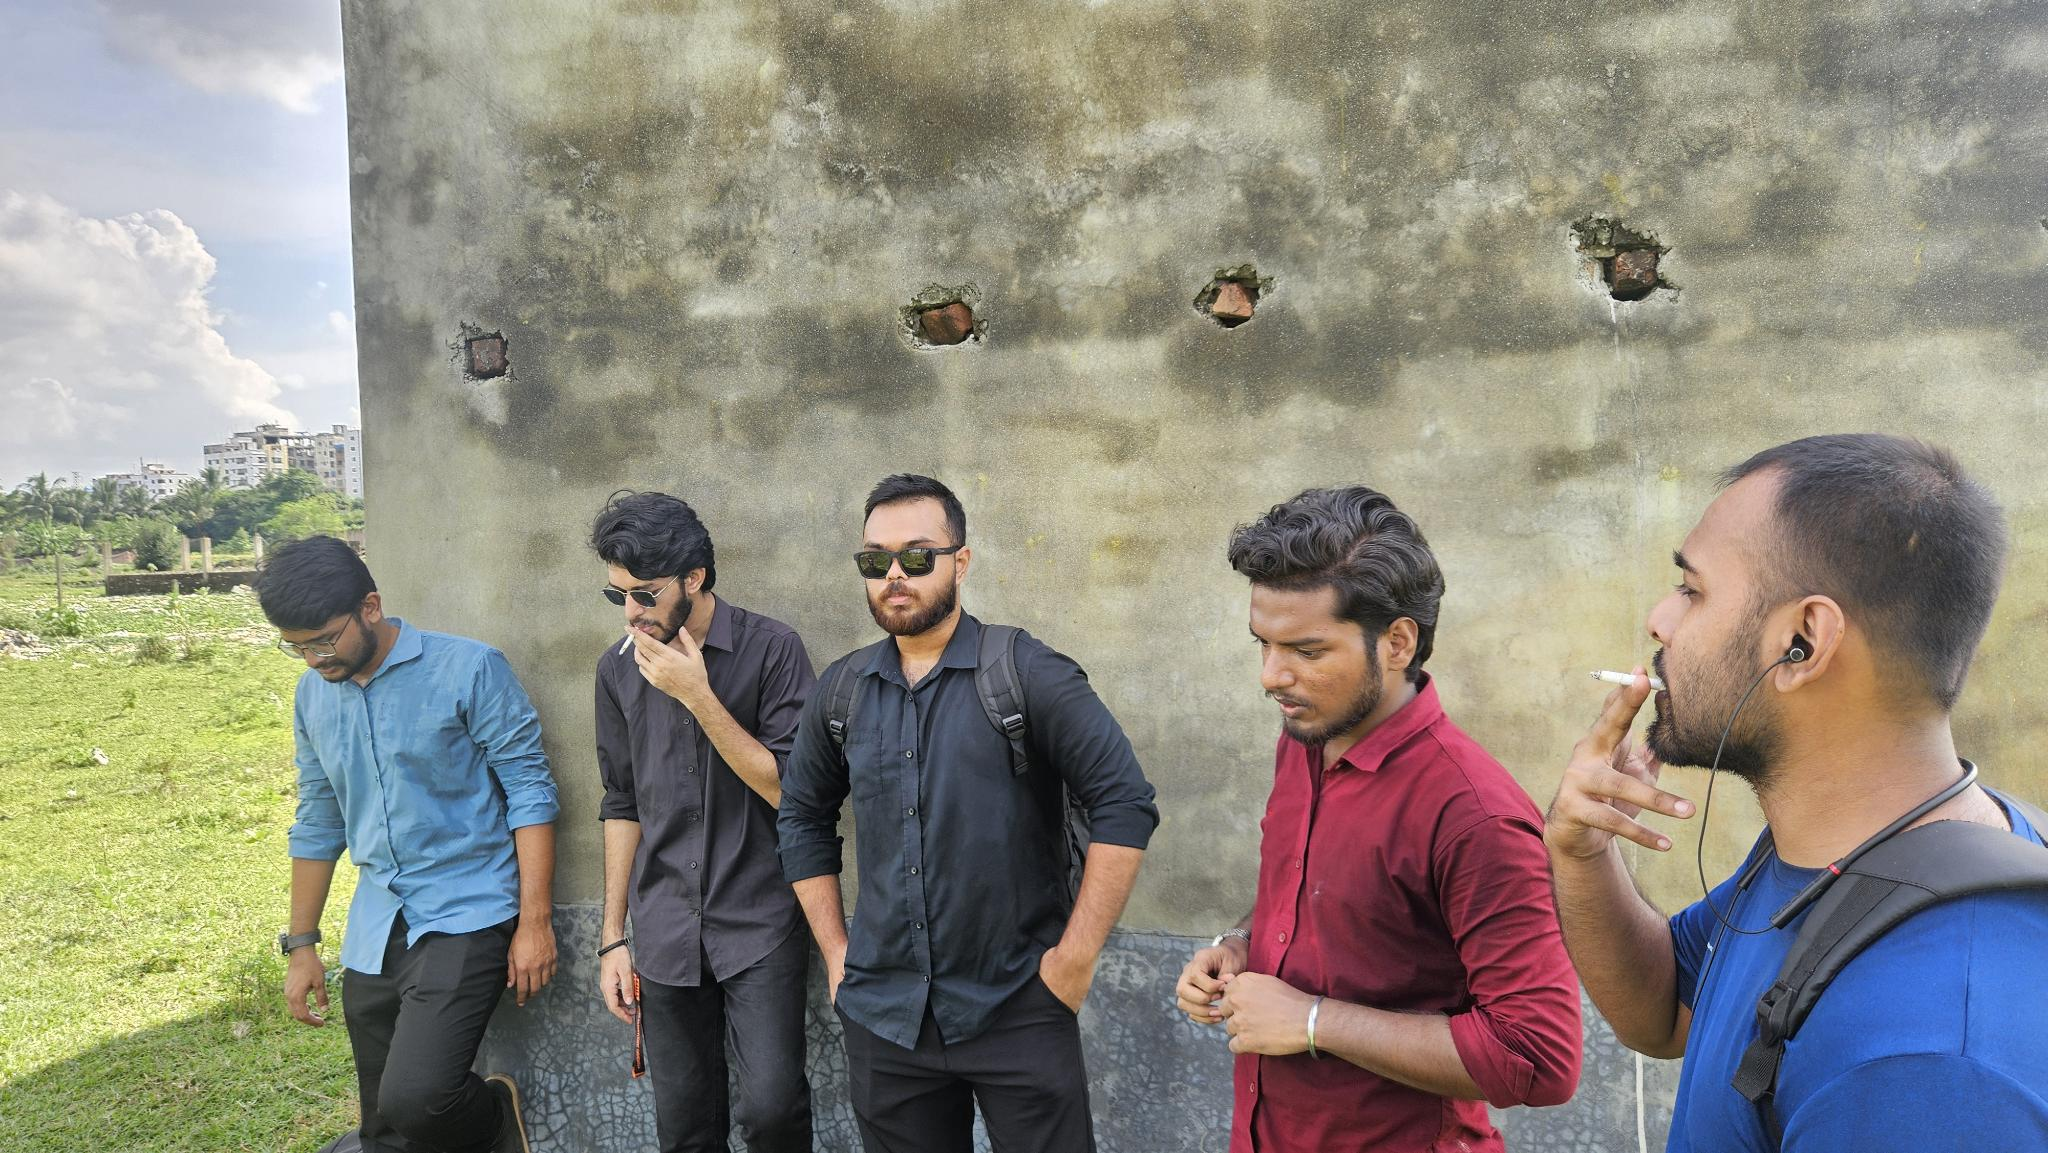cigarette: (1587, 668, 1665, 695), (617, 631, 637, 657)
nonSmoker: (1175, 484, 1584, 1153), (775, 477, 1162, 1153), (253, 537, 554, 1153)
smoker: (1540, 426, 2048, 1153), (592, 487, 816, 1153)
